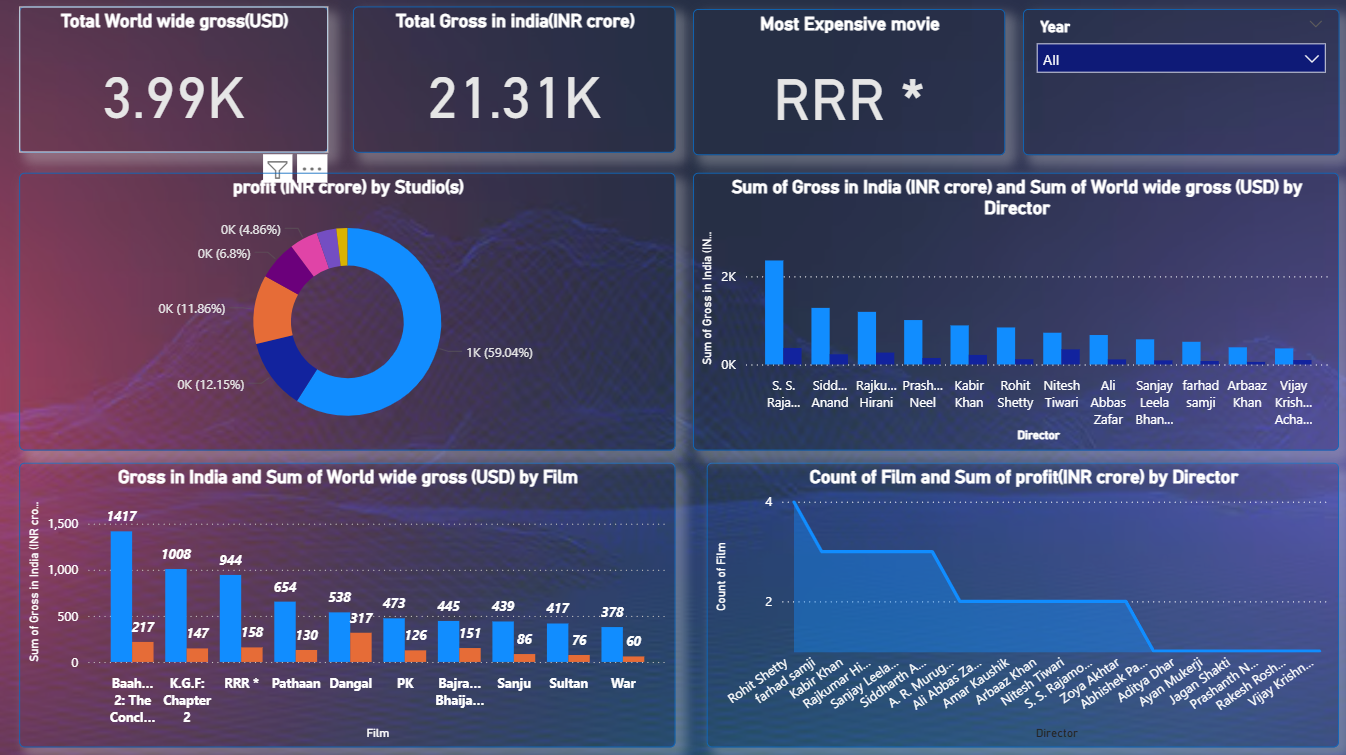

The dashboard page shown, as its layout file describes it:
{"tool":"powerbi","page":{"name":"Page 3","canvas":[1280,720],"ordinal":2},"visuals":[{"type":"clusteredColumnChart","title":"Gross in India  and Sum of World wide gross (USD) by Film","fields":{"Y":["Highest grossing Indian movies.Gross in India (INR crore)","Highest grossing Indian movies.World wide gross (USD)"],"Category":["Highest grossing Indian movies.Film"]},"box":[29.1,436,610.5,265.1],"z":0},{"type":"card","title":"Total World wide gross(USD)","fields":{"Values":["Highest grossing Indian movies.World wide gross (USD)"]},"box":[29.1,11.6,287.2,136],"z":1000},{"type":"card","title":"Total Gross in india(INR crore)","fields":{"Values":["Highest grossing Indian movies.Gross in India (INR crore)"]},"box":[339.5,11.6,300,136],"z":2000},{"type":"areaChart","fields":{"Category":["Highest grossing Indian movies.Director"],"Y":["Highest grossing Indian movies.Film"]},"box":[668.6,436,588.4,265.1],"z":3000},{"type":"card","title":"Most Expensive movie","fields":{"Values":["Highest grossing Indian movies.most ex movie"]},"box":[655.8,14,290.7,136],"z":4000},{"type":"slicer","fields":{"Values":["Highest grossing Indian movies.Year"]},"box":[962.8,14,294.2,136],"z":5000},{"type":"donutChart","title":" profit (INR crore) by Studio(s)","fields":{"Category":["Highest grossing Indian movies.Studio(s)"],"Y":["Highest grossing Indian movies.Budget (INR crore)"]},"box":[29.1,166.3,610.5,258.1],"z":6000},{"type":"clusteredColumnChart","fields":{"Category":["Highest grossing Indian movies.Director"],"Y":["Highest grossing Indian movies.Gross in India (INR crore)","Highest grossing Indian movies.World wide gross (USD)"]},"box":[655.8,166.3,601.2,258.1],"z":7000}]}

Visuals, with their boxes in screenshot pixels (x1, y1, x2, y2), scaled from the page's 1280x720 canvas onto the 1346x755 screenshot:
"Gross in India  and Sum of World wide gross (USD) by Film" clusteredColumnChart: bbox=(31, 457, 673, 735)
"Total World wide gross(USD)" card: bbox=(31, 12, 333, 155)
"Total Gross in india(INR crore)" card: bbox=(357, 12, 672, 155)
areaChart - Highest grossing Indian movies.Director x Highest grossing Indian movies.Film: bbox=(703, 457, 1322, 735)
"Most Expensive movie" card: bbox=(690, 15, 995, 157)
slicer - Highest grossing Indian movies.Year: bbox=(1012, 15, 1322, 157)
" profit (INR crore) by Studio(s)" donutChart: bbox=(31, 174, 673, 445)
clusteredColumnChart - Highest grossing Indian movies.Director x Highest grossing Indian movies.Gross in India (INR crore): bbox=(690, 174, 1322, 445)
